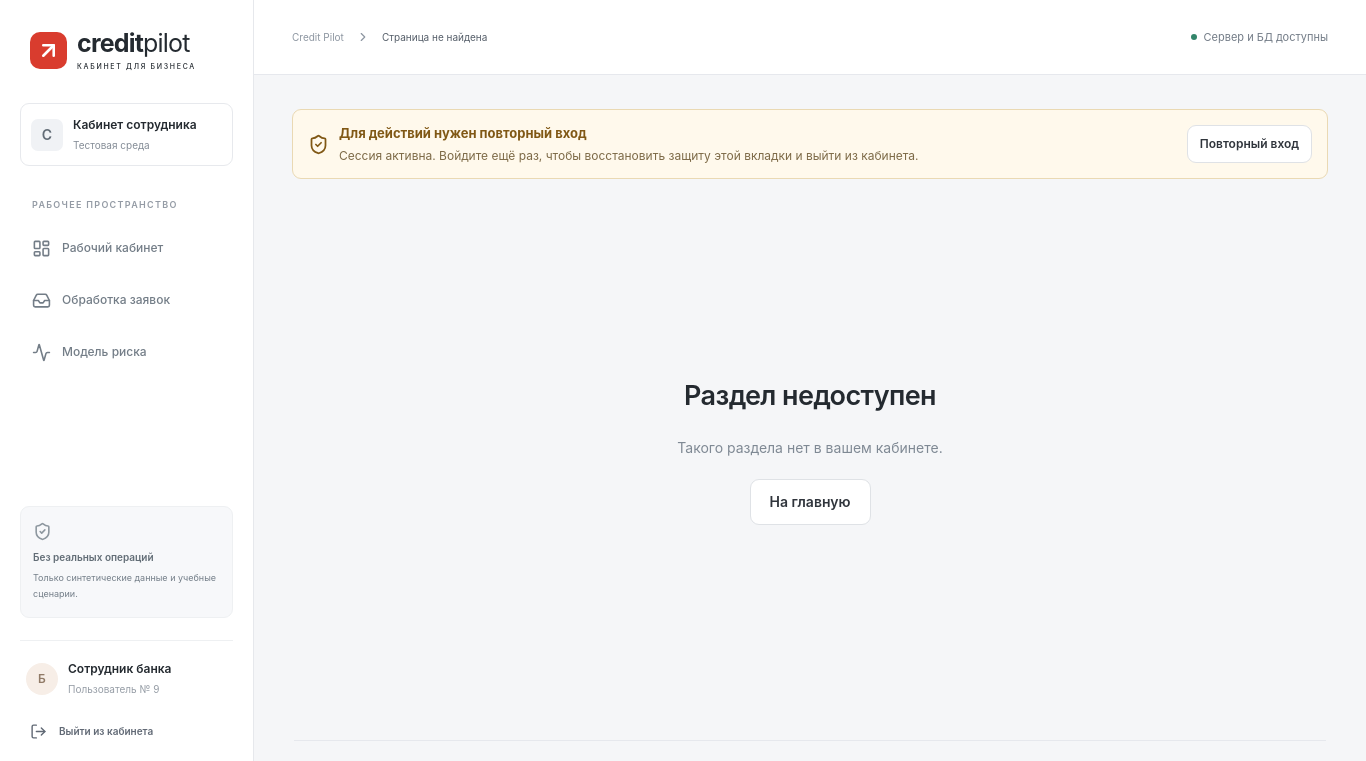
Test: серверная сессия и навигация › чужой маршрут роли недоступен, очередь сотрудника открывается
Expected: the navigation bar is shown, [32,238,170,362]
Expected: the heading "Раздел недоступен" is shown, [684,376,936,416]
Click the link "Обработка заявок" at (101, 300), box [32,290,170,310]
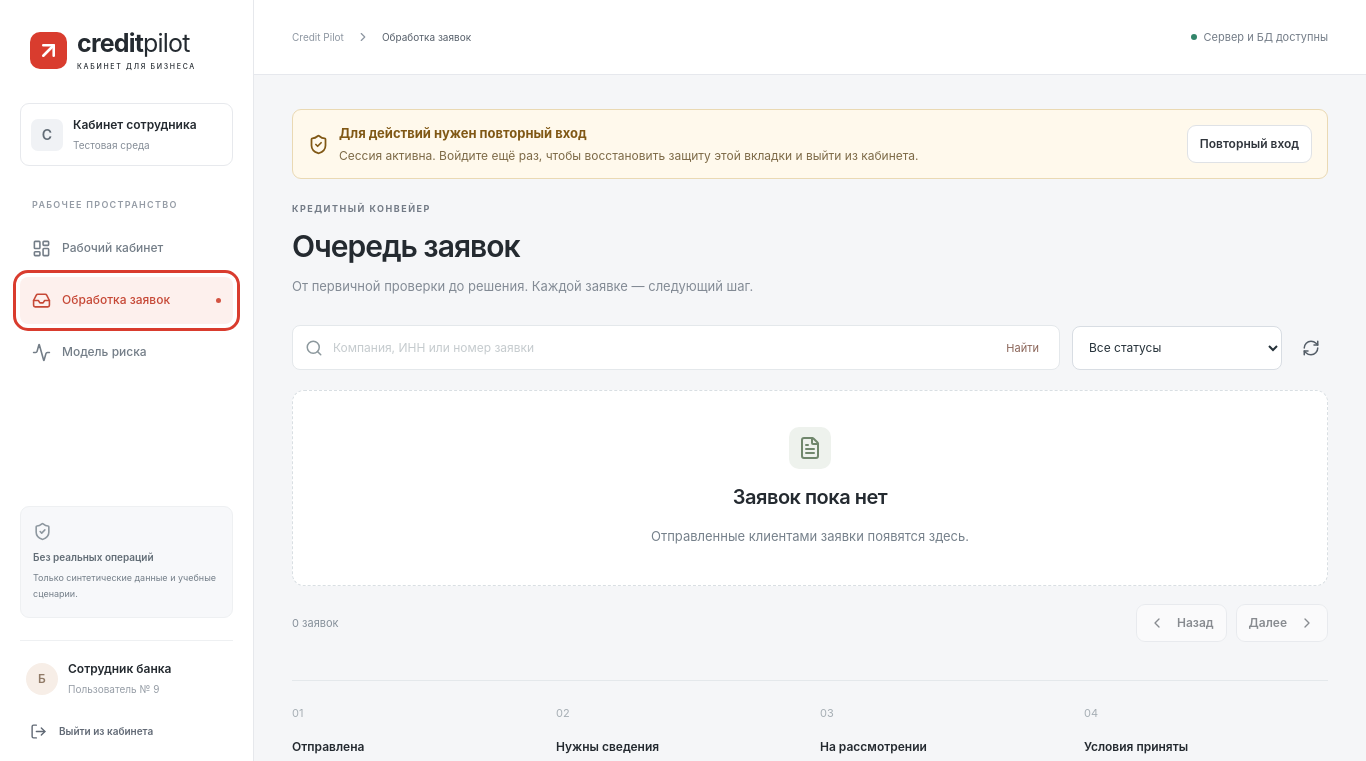
Expected: the heading "Очередь заявок" is shown, [292,228,520,264]
